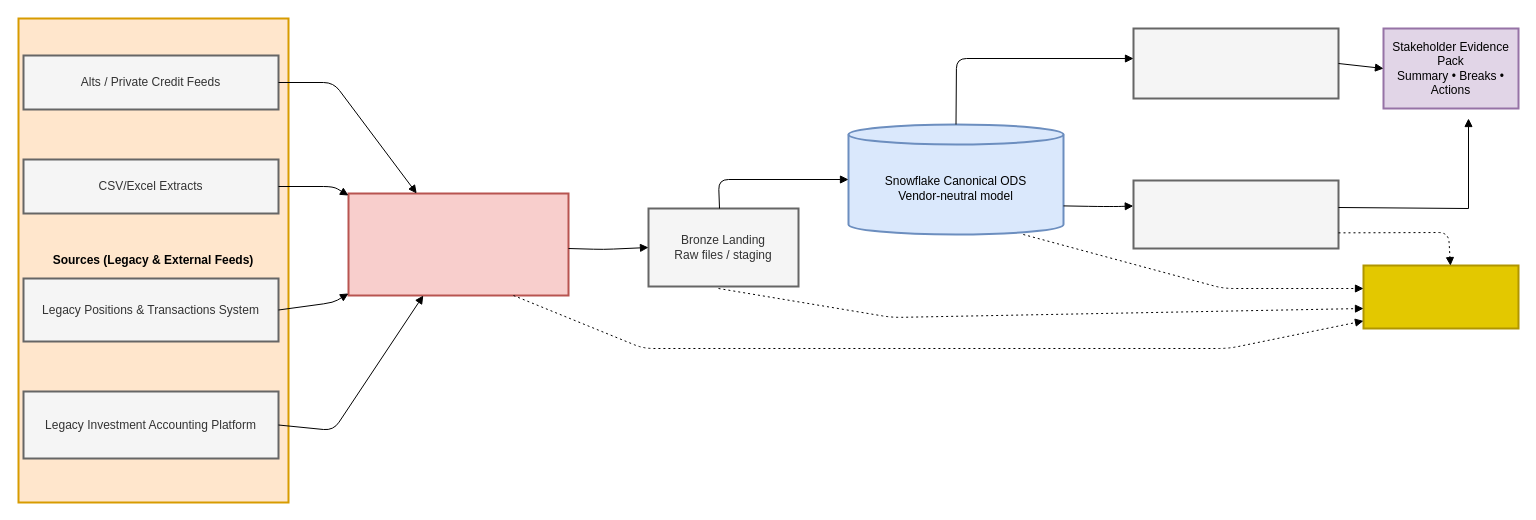
The diagram is 1536 pixels wide and 520 high, and some of its shapes have lost their labels. Each missing label, with the centre of its shape:
"dbt Control Suite Reconciliation + Tests" belongs at (x=1235, y=214).
"Governance Rule catalog • Run logs • Audit trail" belongs at (x=1440, y=296).
"Power BI Ops Command Center Quality • Break Trends • T+1 Views" belongs at (x=1235, y=63).
"Python Quality Gate Validation • Rejects • Run-ID Evidence" belongs at (x=458, y=244).
